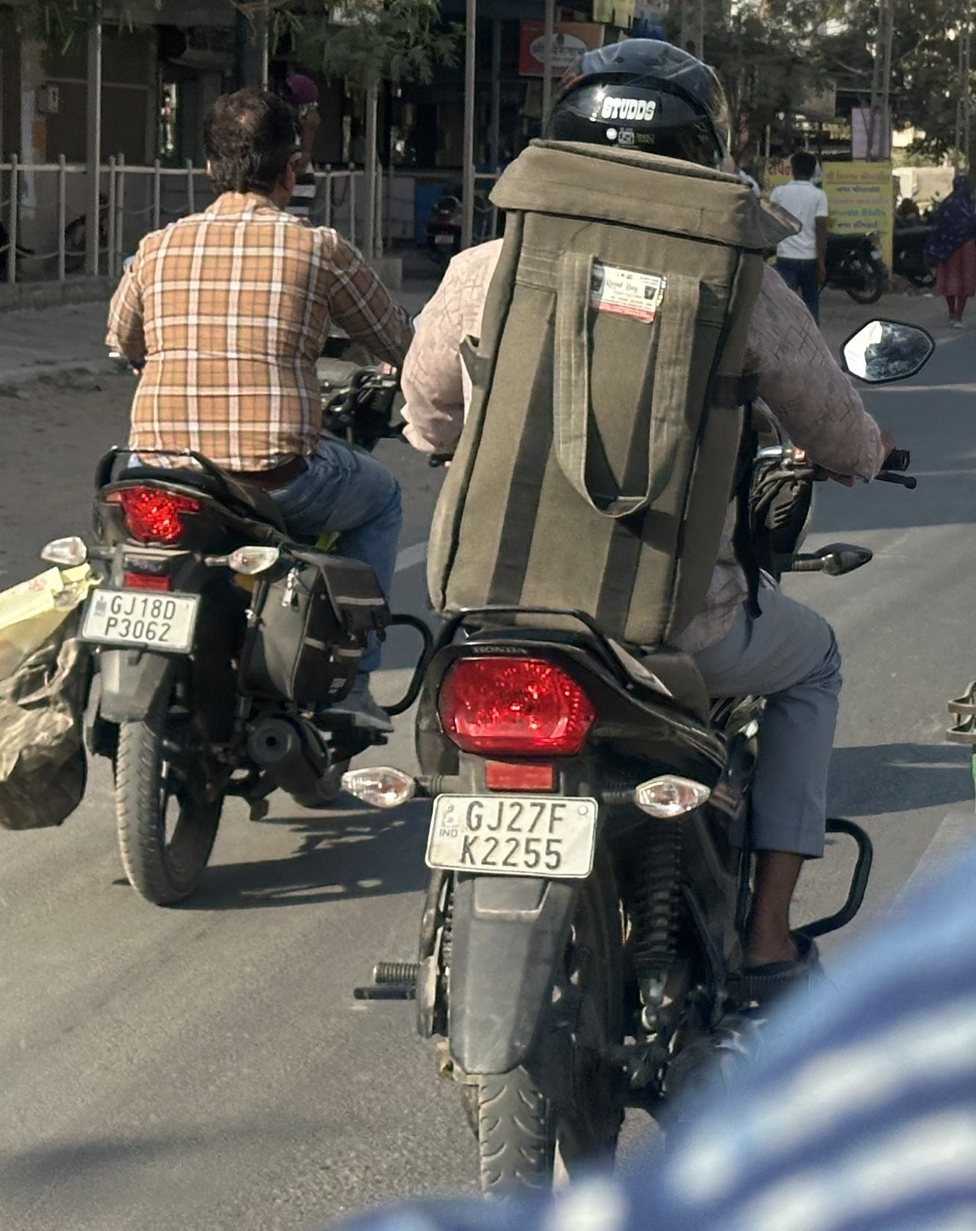BikeWithRider: (329, 26, 947, 1225), (48, 73, 451, 917)
Helmet: (517, 28, 751, 188)
NoHelmet: (185, 74, 316, 219)
